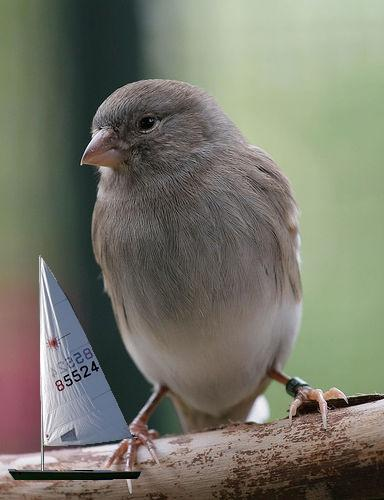tampered: (9, 254, 141, 480)
